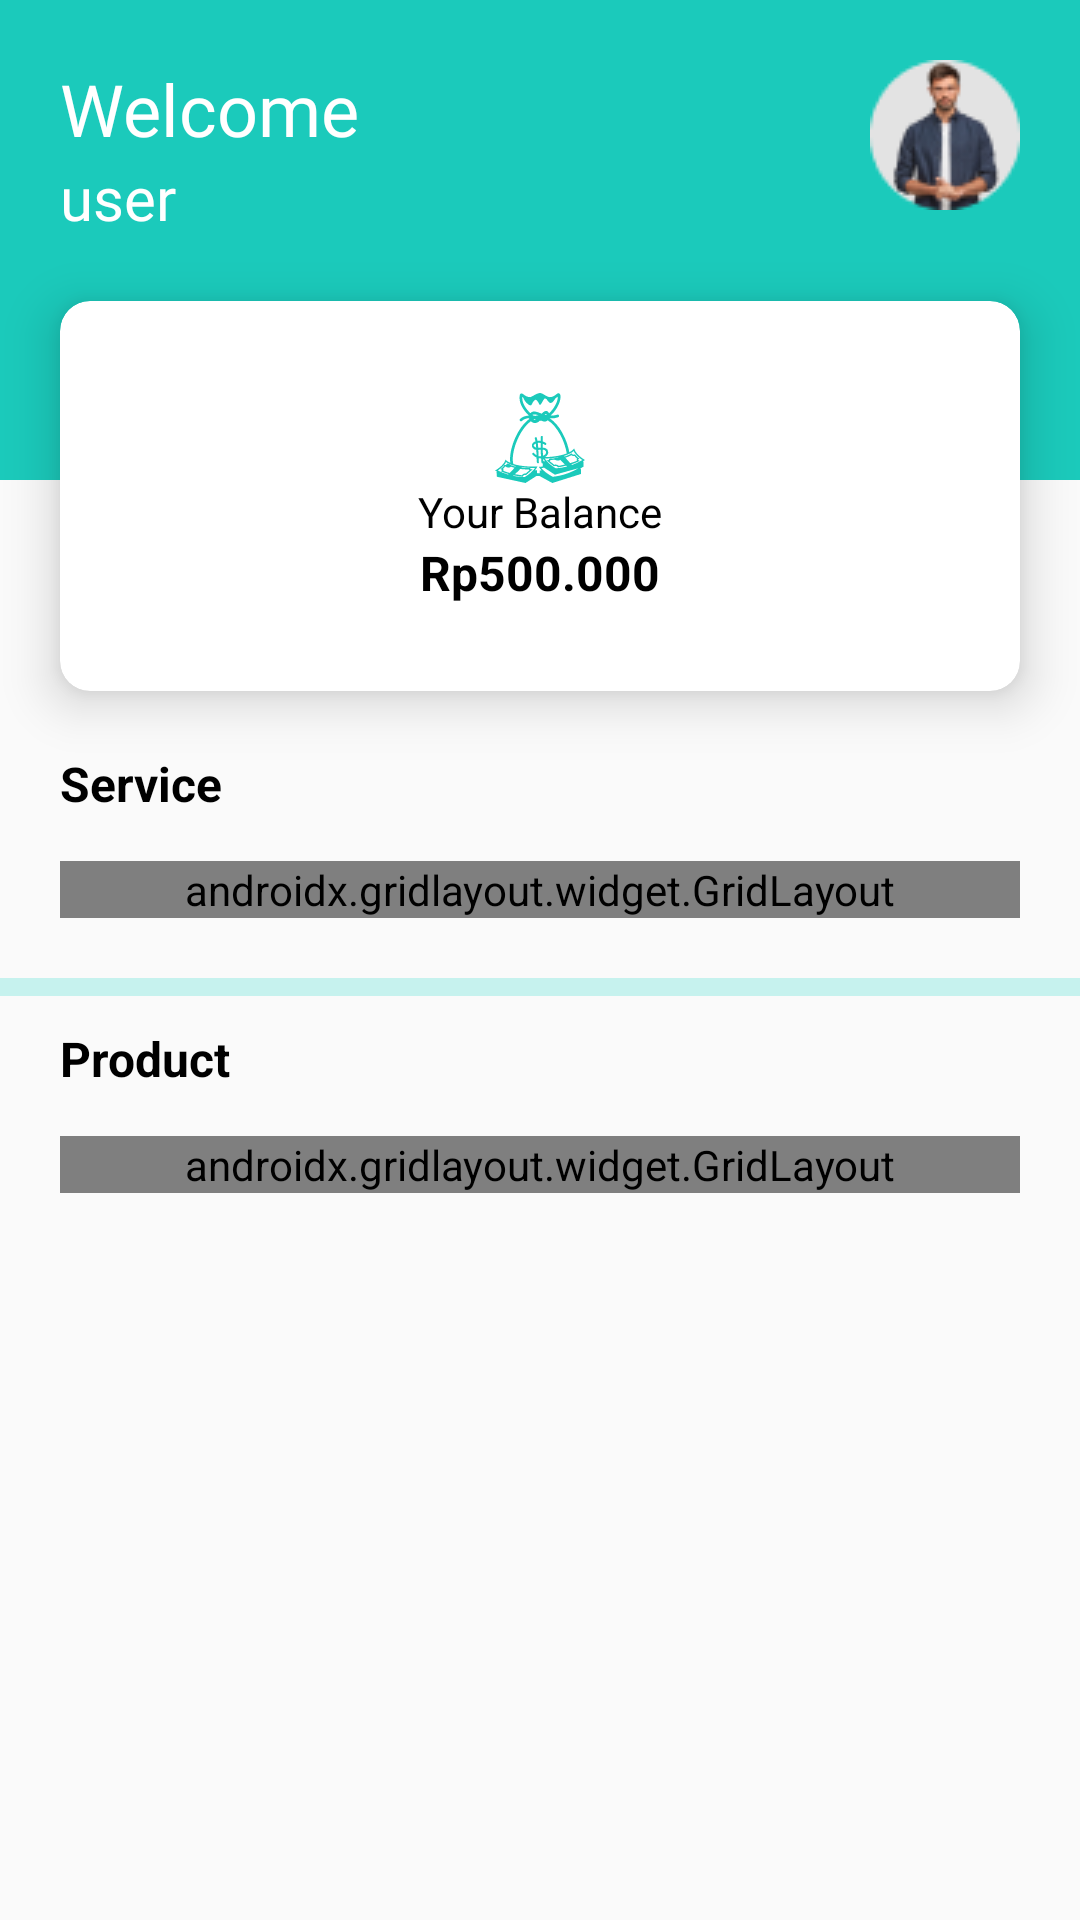

Icon click points for this 1080*1920 phone screenshot, format point (x, y):
emojione monotone money bag: point (540, 438)
profilepic: point (945, 135)
